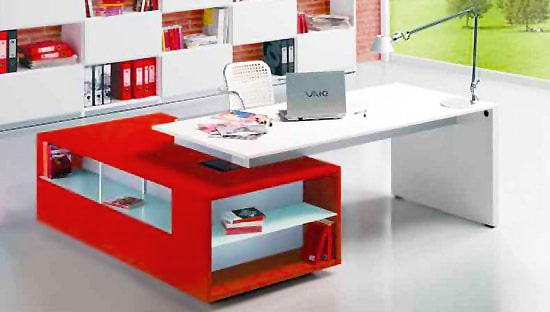not a gesture sign: (0, 78, 549, 311)
